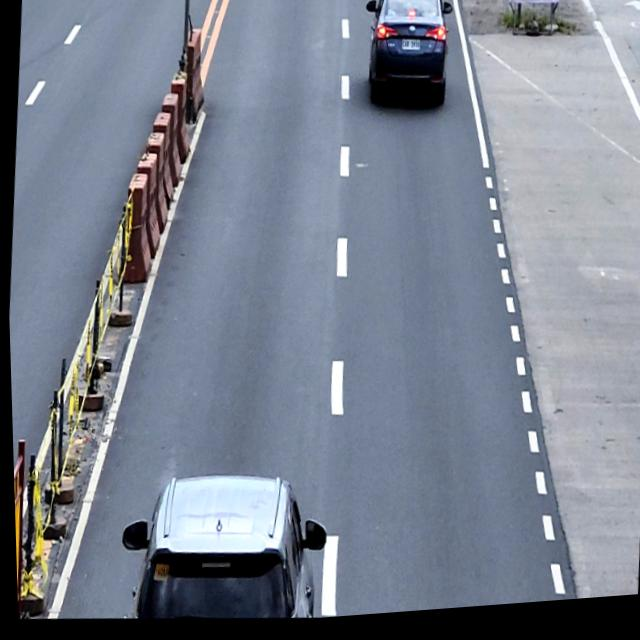Car: (111, 463, 332, 634), (359, 0, 457, 115)
License-Plate: (399, 42, 421, 57)
